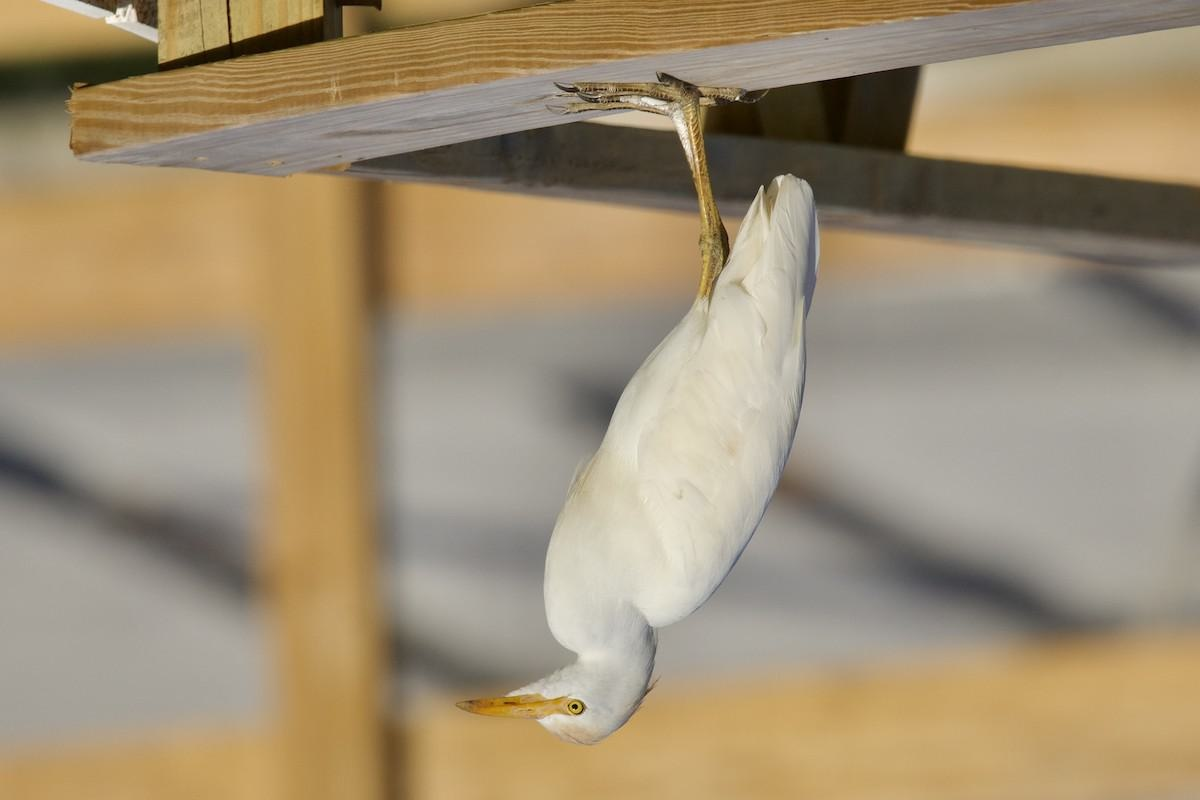egret: (458, 133, 840, 761)
